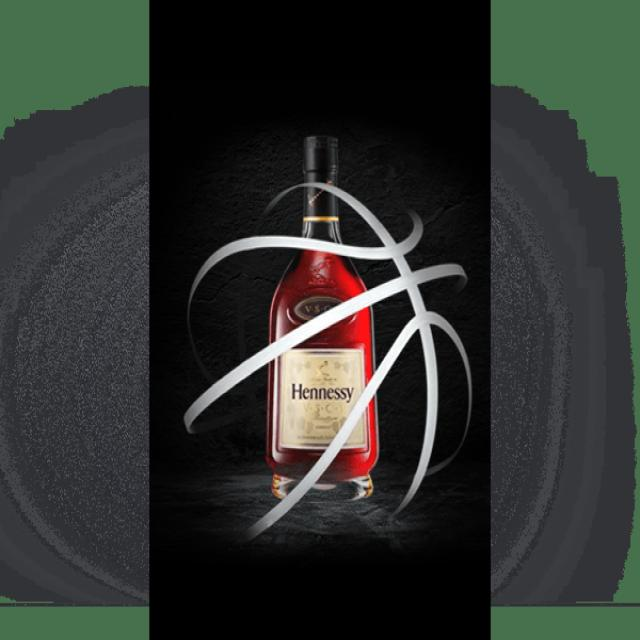Background Image: (2, 2, 636, 634)
Mascot: (182, 130, 472, 542)
QR Code: (277, 346, 367, 450)
Social Proof: (263, 133, 380, 502)
Text Elements: (289, 380, 354, 403)
